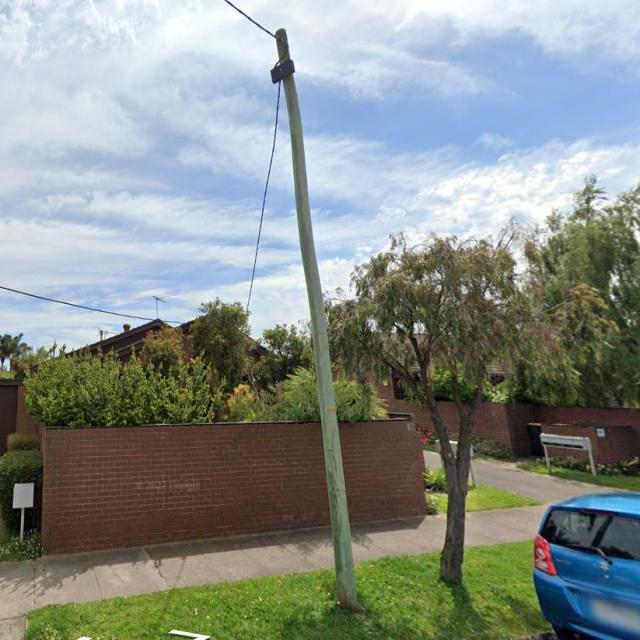timber-pole: (274, 27, 361, 614)
